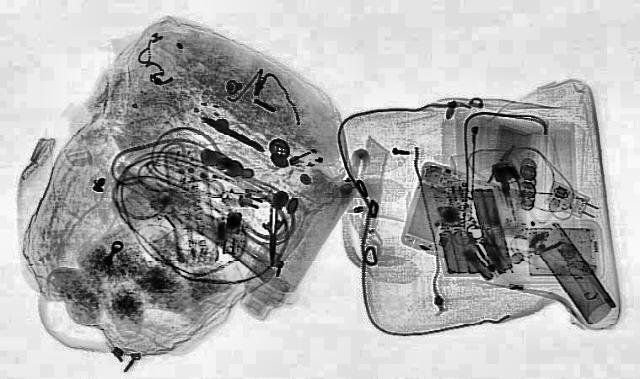Knife: (262, 201, 286, 265)
